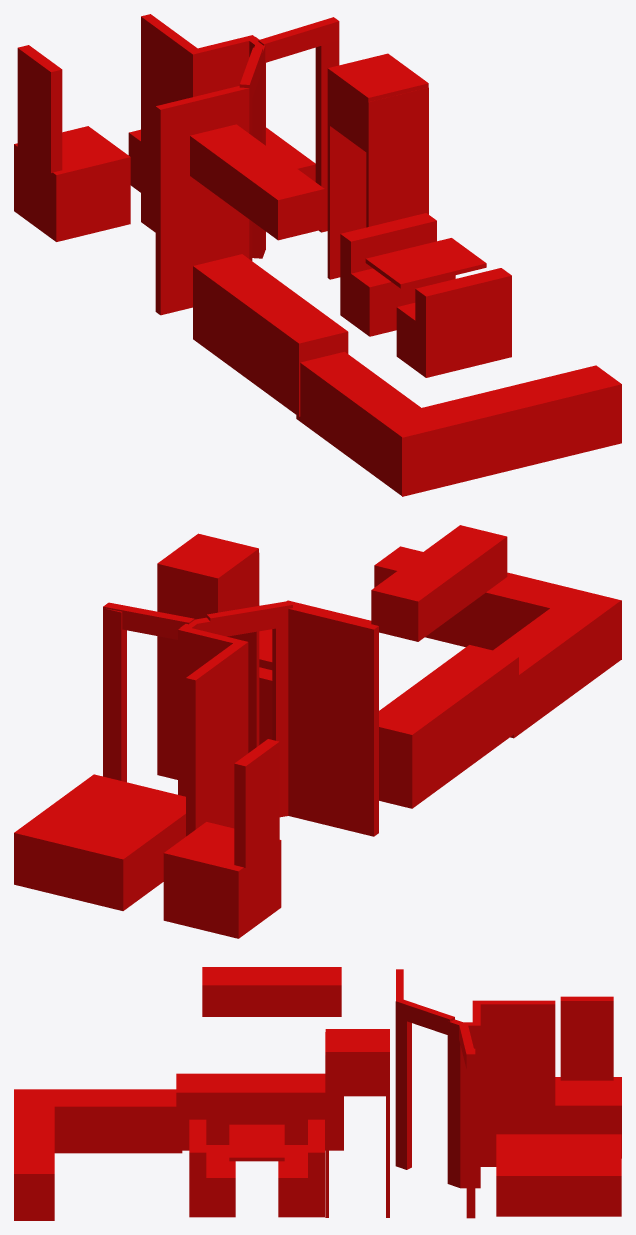
Rendered from SM_Bld_Trailer_Interior_01_Collision.fbx.
3 views of the same model, one above another, from view 1: azimuth 30°, elevation 25°; view 2: azimuth 150°, elevation 25°; view 3: azimuth 270°, elevation 25° (orthographic). The views are drawn at different scales.
Parts seen in each view (by area): view 1: SM_Bld_Trailer_Interior_01_Collision; view 2: SM_Bld_Trailer_Interior_01_Collision; view 3: SM_Bld_Trailer_Interior_01_Collision.
Boxes of the visible parts, x1=… form: SM_Bld_Trailer_Interior_01_Collision: x1=14, y1=14, x2=621, y2=496; SM_Bld_Trailer_Interior_01_Collision: x1=14, y1=525, x2=621, y2=938; SM_Bld_Trailer_Interior_01_Collision: x1=14, y1=967, x2=621, y2=1220.
Bounding box in the file's own units: 308 × 276 × 896.
